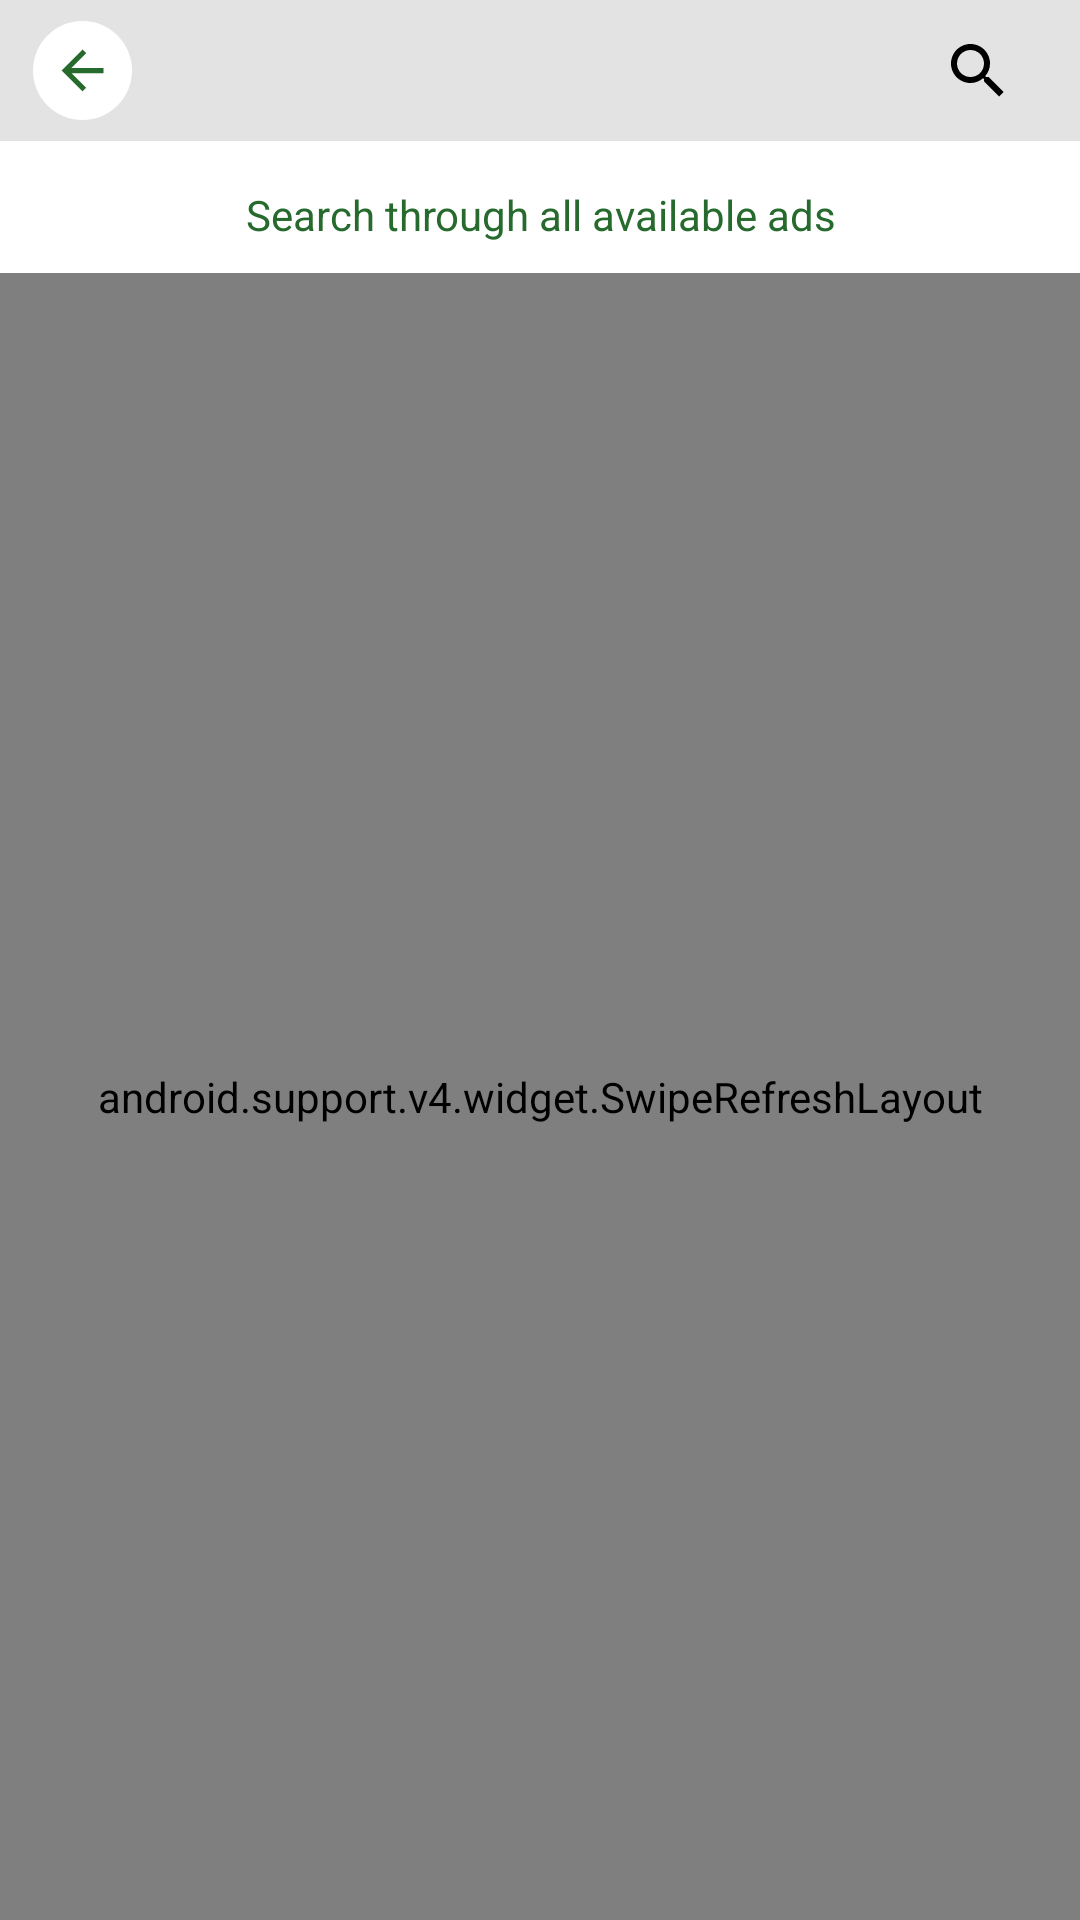

Screen size 1080px×1920px. Icon name, then its center in pixels as [x,y]:
arrow back: [82,70]
